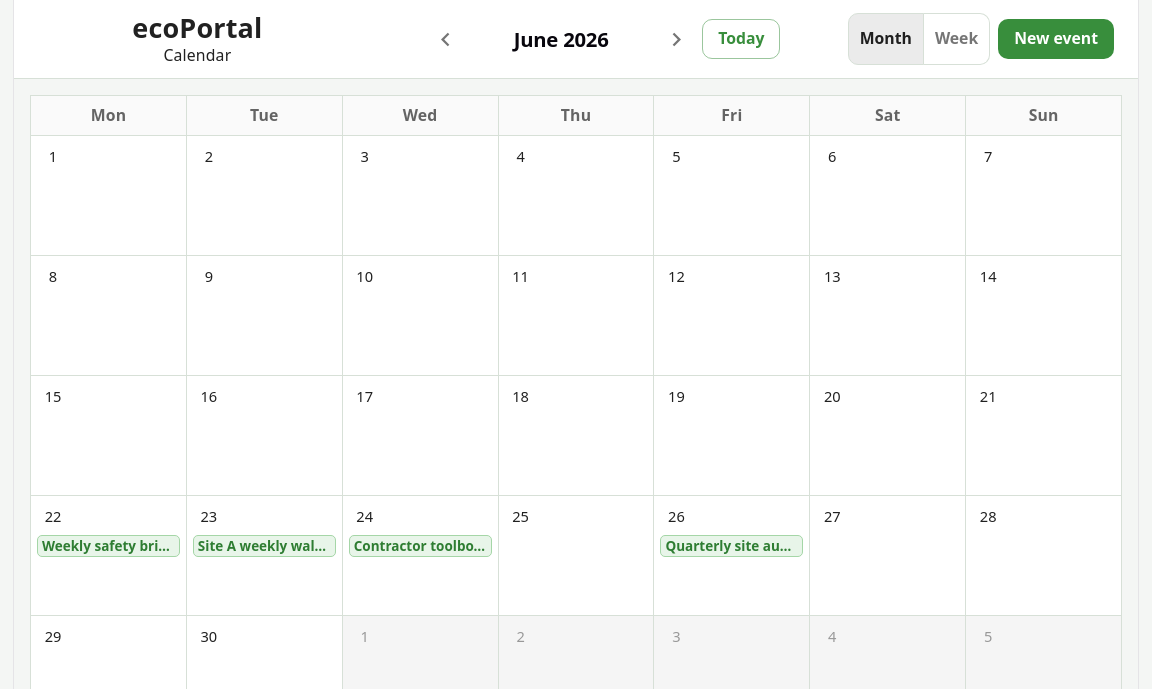
Test: App integration › create › opens create mode with the selected week slot hour
Step 1. Click the button with aria-label "Week view" → (957, 39), box [923, 13, 990, 65]
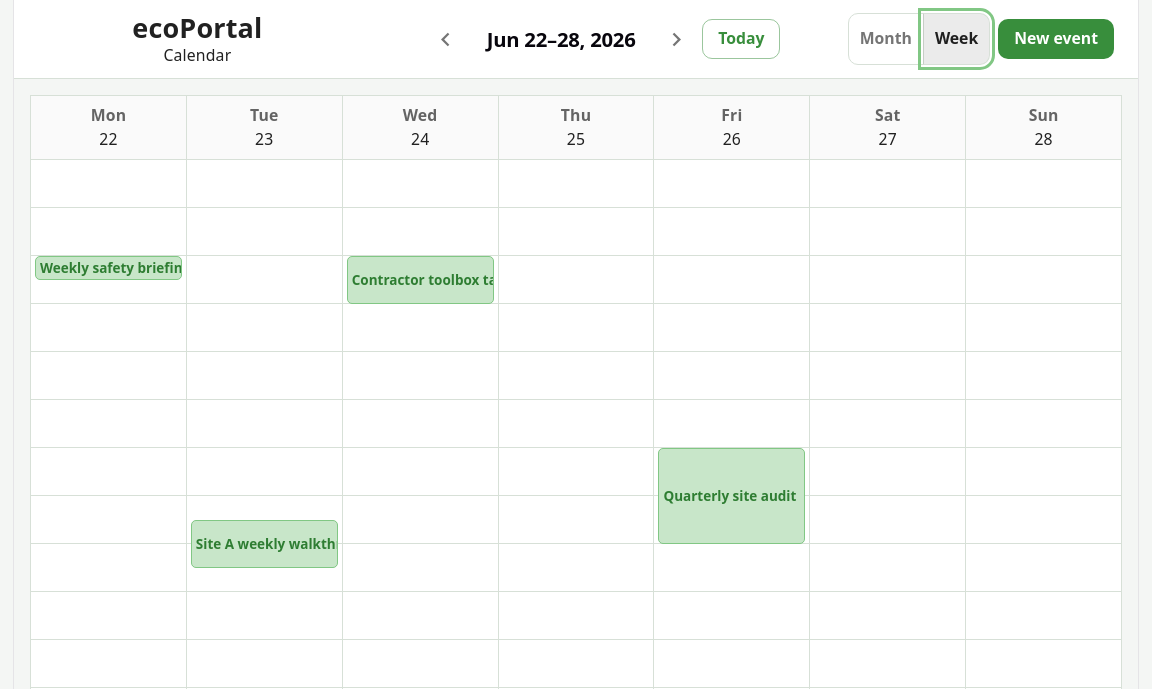
Step 2. Click the button with aria-label "Create event on June 24, 2026 at 10:00 AM" → (420, 328), box [343, 304, 498, 352]
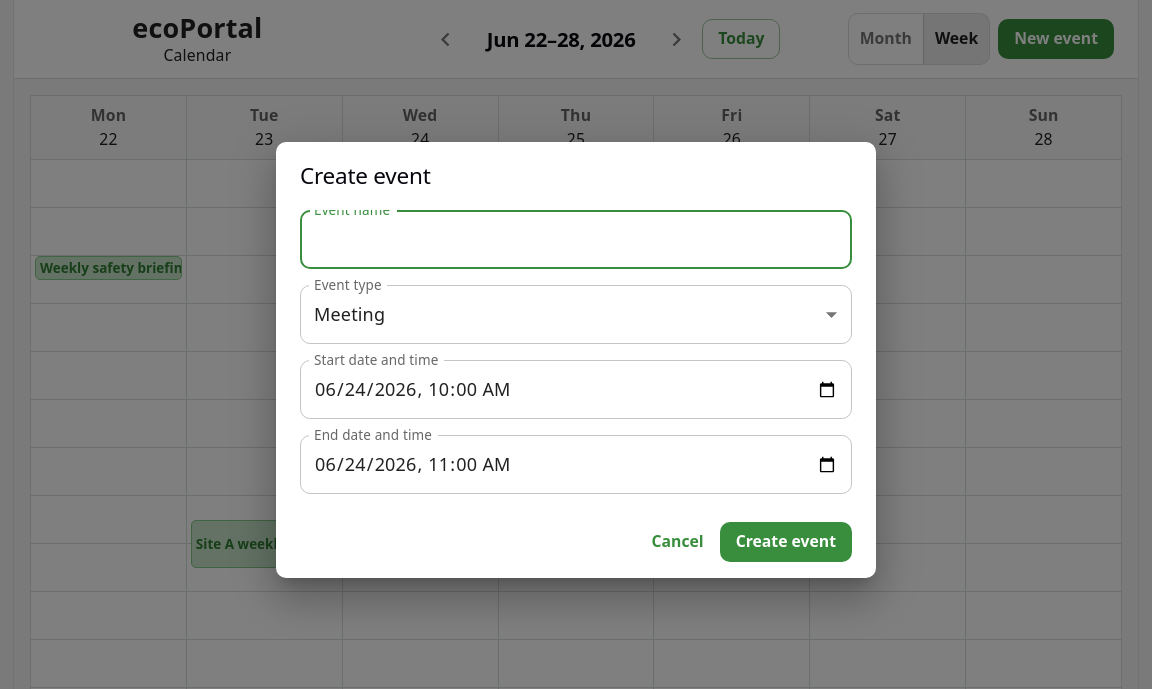
Check: the field labelled "Start date and time" holds "2026-06-24T10:00", box [300, 360, 852, 419]
Check: the field labelled "End date and time" holds "2026-06-24T11:00", box [300, 435, 852, 494]
